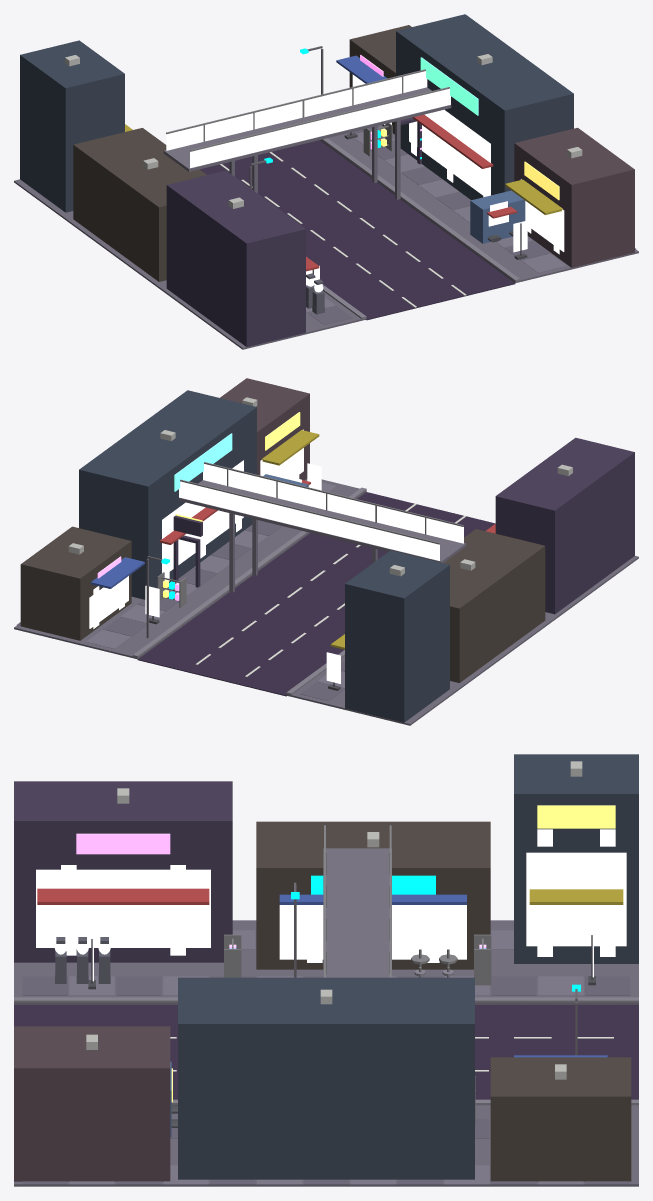
Rendered from env3-1.glb.
The picture shows the model from 3 angles, top to bottom: view 1: azimuth 30°, elevation 25°; view 2: azimuth 150°, elevation 25°; view 3: azimuth 270°, elevation 25°; orthographic projection. The views are drawn at different scales.
Visible parts, largest first — view 1: env3-1; view 2: env3-1; view 3: env3-1.
Part boxes in pixels (left/top/right/bottom): env3-1: left=14, top=14, right=638, bottom=349; env3-1: left=14, top=378, right=638, bottom=725; env3-1: left=14, top=754, right=638, bottom=1186.
Size of the model in its own units: 20.03 by 6.66 by 20.
